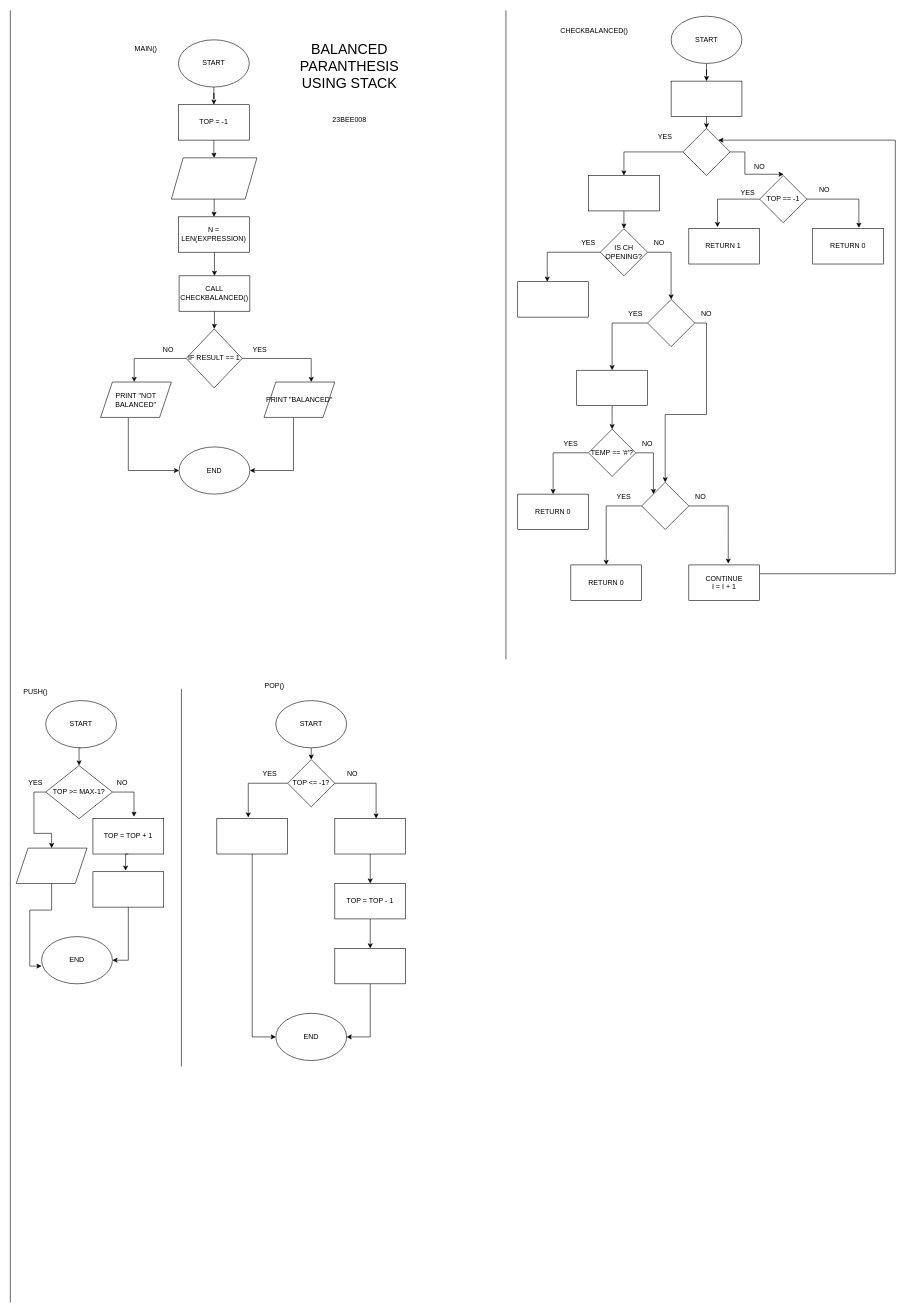
Some shapes in this 910 by 1313 pixel diagram are drawn without their labels. The shapes that lost their labels are listed below. From the top down, each one's centre as x and y in pixels, then its label:
point 706,99: I = 0
point 706,152: I < N
point 214,178: INPUT EXPRESSION
point 623,193: CH = EXPR[I]
point 553,299: PUSH(CH)
point 671,323: IS CH CLOSING?
point 612,388: TEMP = POP()
point 665,506: BRACKETS MATCHING?
point 252,836: RETURN '#'
point 370,836: ITEM = STACK [TOP]
point 51,866: PRINT "STACK OVERFLOW"
point 128,889: STACK[TOP] = CH
point 370,966: RETURN ITEM
